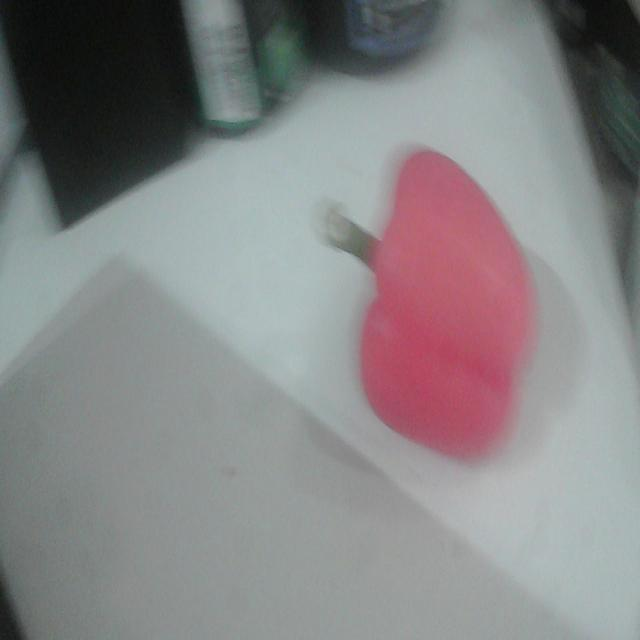Bell Pepper: (326, 150, 534, 459)
